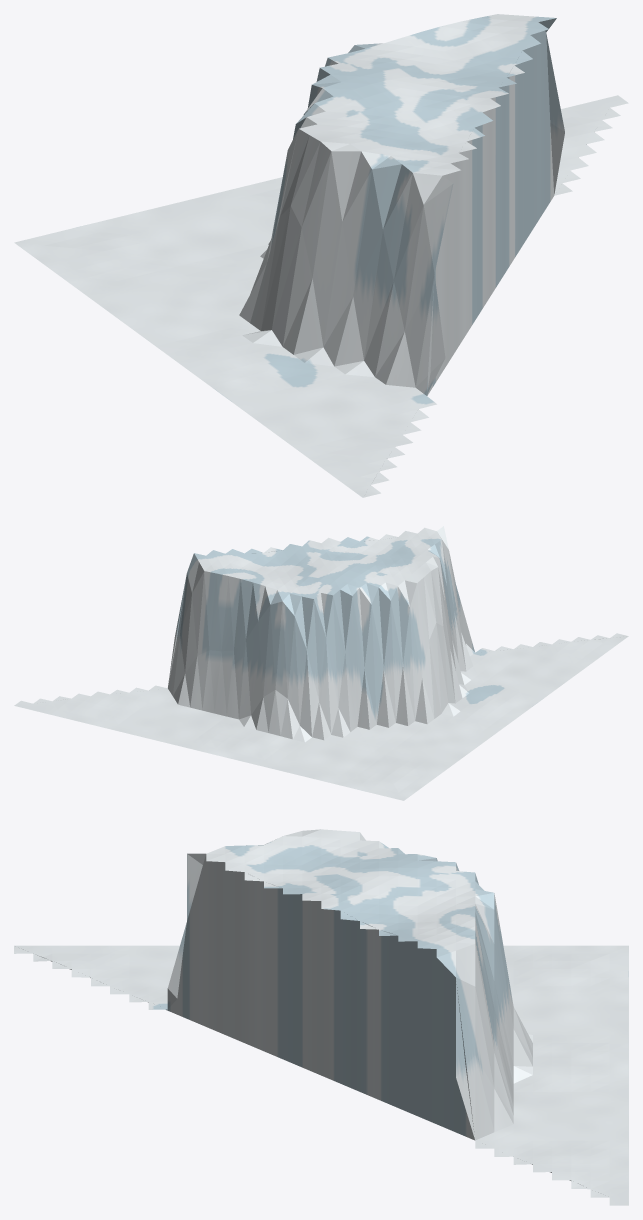
The model's file is Snow_Mountains_10_SW.obj.
3 renders of one model, top to bottom at view 1: azimuth 30°, elevation 25°; view 2: azimuth 150°, elevation 25°; view 3: azimuth 270°, elevation 25°, orthographic. The views are drawn at different scales.
Size of the model in its own units: 10 by 3.16 by 10.
1 material, 1 textured.
